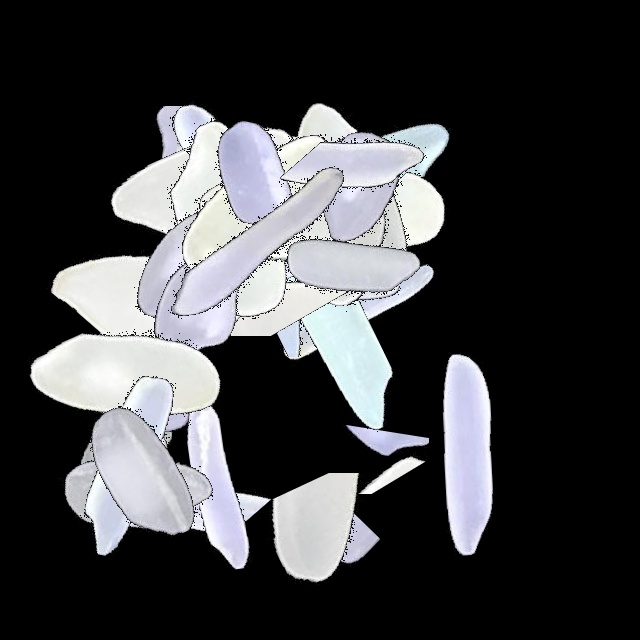Broken: (310, 54, 484, 304), (188, 155, 438, 329), (8, 340, 258, 514), (73, 106, 323, 278), (88, 192, 338, 364), (213, 77, 372, 327), (191, 102, 350, 352), (219, 88, 372, 338), (55, 405, 305, 554), (263, 119, 410, 369), (219, 473, 469, 613), (207, 219, 457, 357), (240, 125, 490, 263), (48, 368, 298, 503), (331, 128, 466, 378), (128, 206, 378, 336), (341, 137, 465, 387), (105, 258, 227, 508), (183, 492, 433, 607), (98, 148, 348, 262), (318, 360, 429, 610), (247, 187, 497, 281), (234, 407, 484, 494), (177, 45, 262, 295), (84, 301, 166, 551), (290, 107, 368, 357), (141, 196, 391, 274), (0, 364, 250, 439)
Full: (191, 80, 441, 330), (232, 184, 482, 434), (1, 318, 251, 568), (129, 59, 379, 309), (218, 209, 468, 459), (118, 63, 368, 313), (92, 356, 342, 606), (129, 145, 379, 395), (344, 328, 594, 578), (27, 168, 277, 418), (85, 66, 335, 316), (12, 362, 262, 612), (106, 98, 356, 348), (63, 141, 313, 391), (235, 58, 485, 308), (130, 80, 380, 330), (132, 48, 382, 298), (0, 255, 250, 505), (0, 339, 250, 589), (14, 348, 264, 598), (225, 137, 475, 387), (130, 115, 380, 365)
